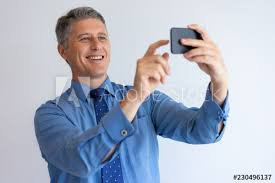white_male: (56, 22, 118, 88)
